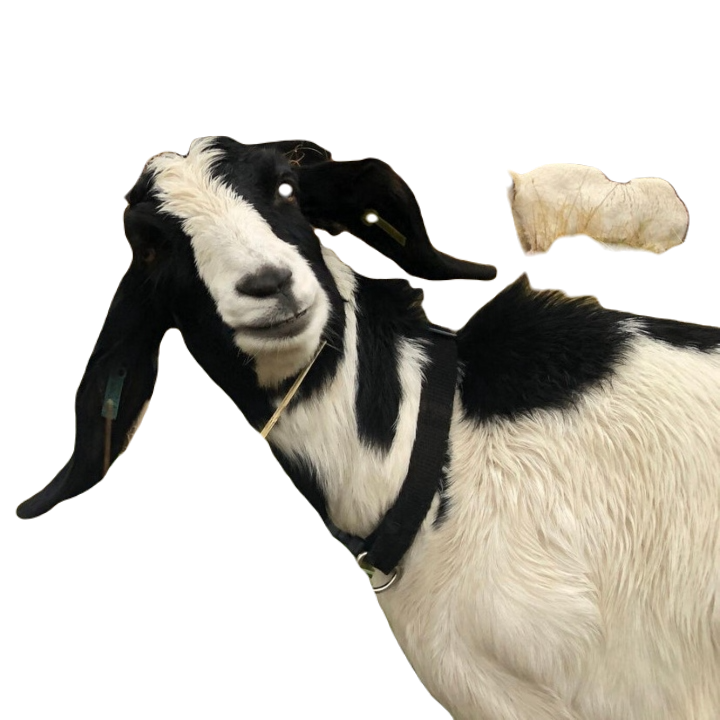Goat: (16, 134, 716, 717)
